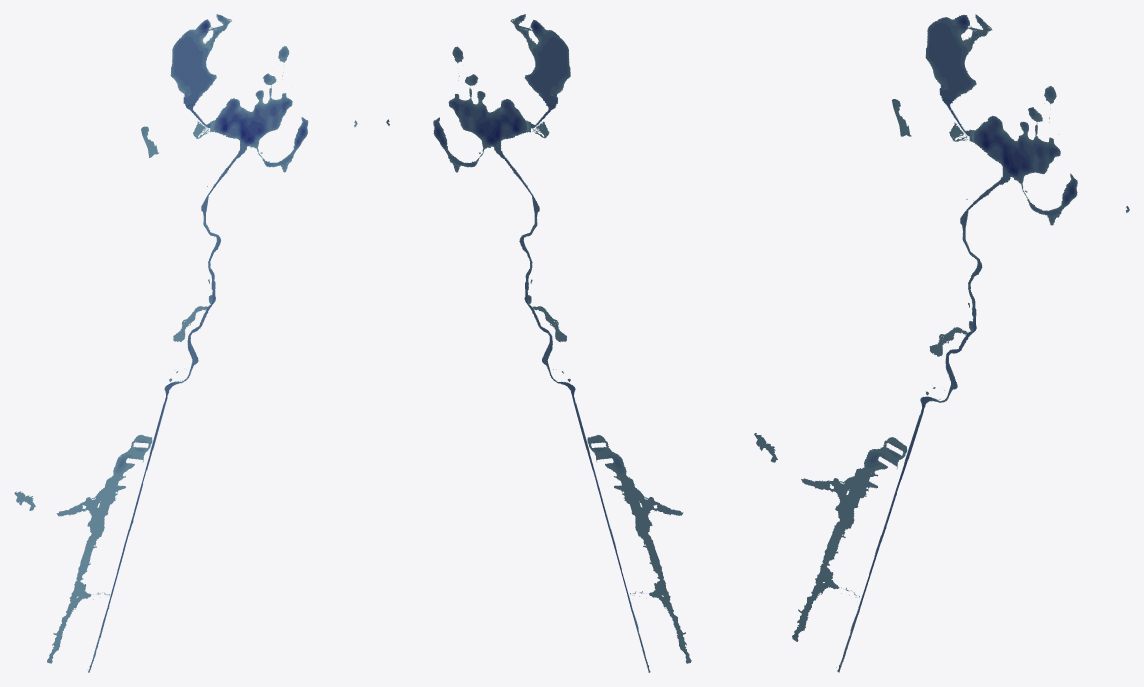
File: triangle_mesh.glb
3 views of the same model, side by side, from view 1: azimuth 30°, elevation 25°; view 2: azimuth 150°, elevation 25°; view 3: azimuth 330°, elevation 25° (orthographic). The views are drawn at different scales.
Visible parts, largest first — view 1: world; view 2: world; view 3: world.
Part boxes in pixels (x1,y1,x2,y2): world: (14, 14, 357, 672); world: (386, 14, 691, 672); world: (754, 14, 1129, 672).
Bounding box in the file's own units: 1557 × 2739 × 18.73.
